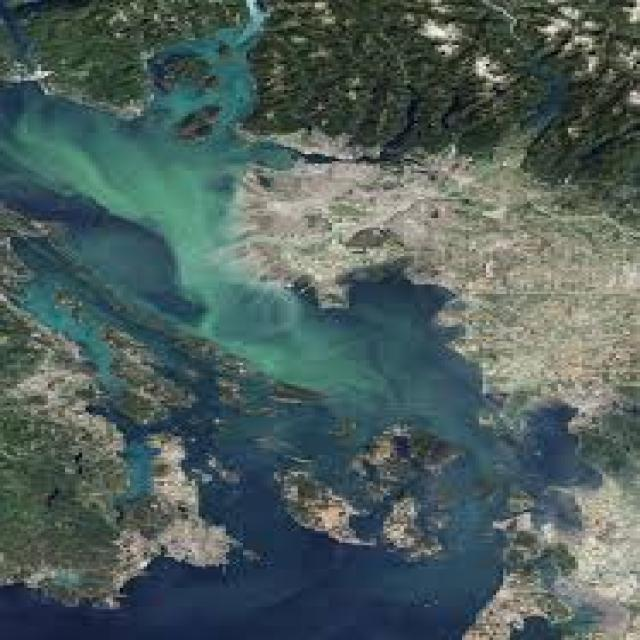algal: (0, 17, 509, 493)
